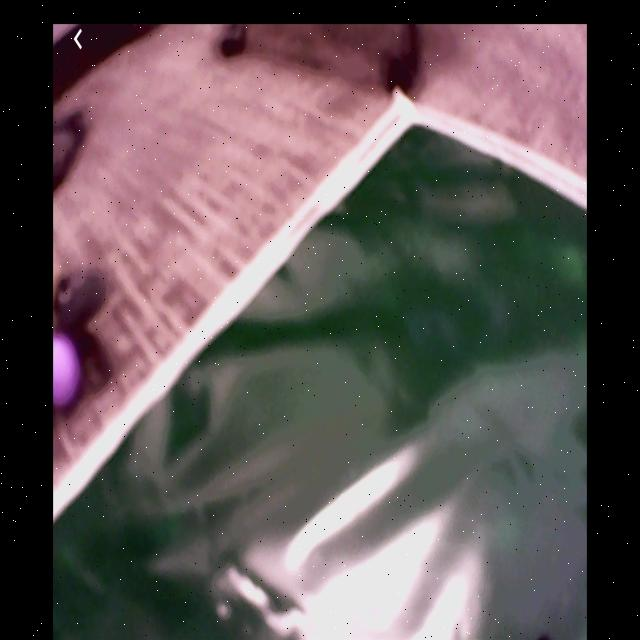ball: (54, 333, 81, 403)
